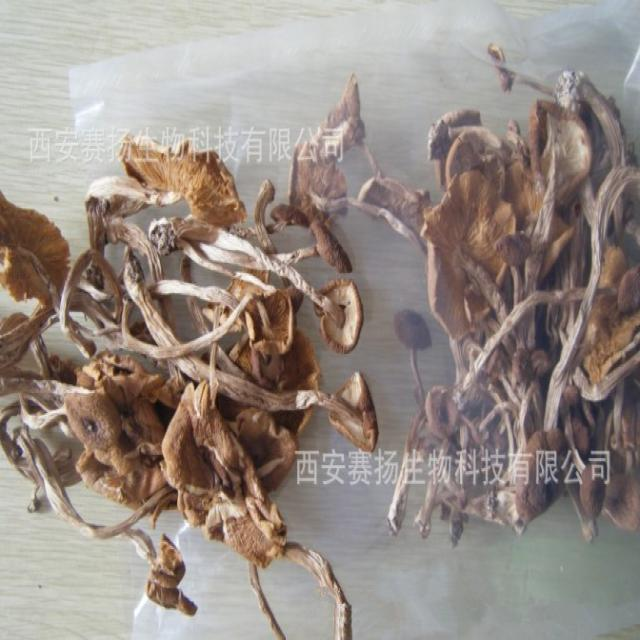Agrocybe aegerita: (0, 71, 374, 636), (425, 77, 640, 541)
